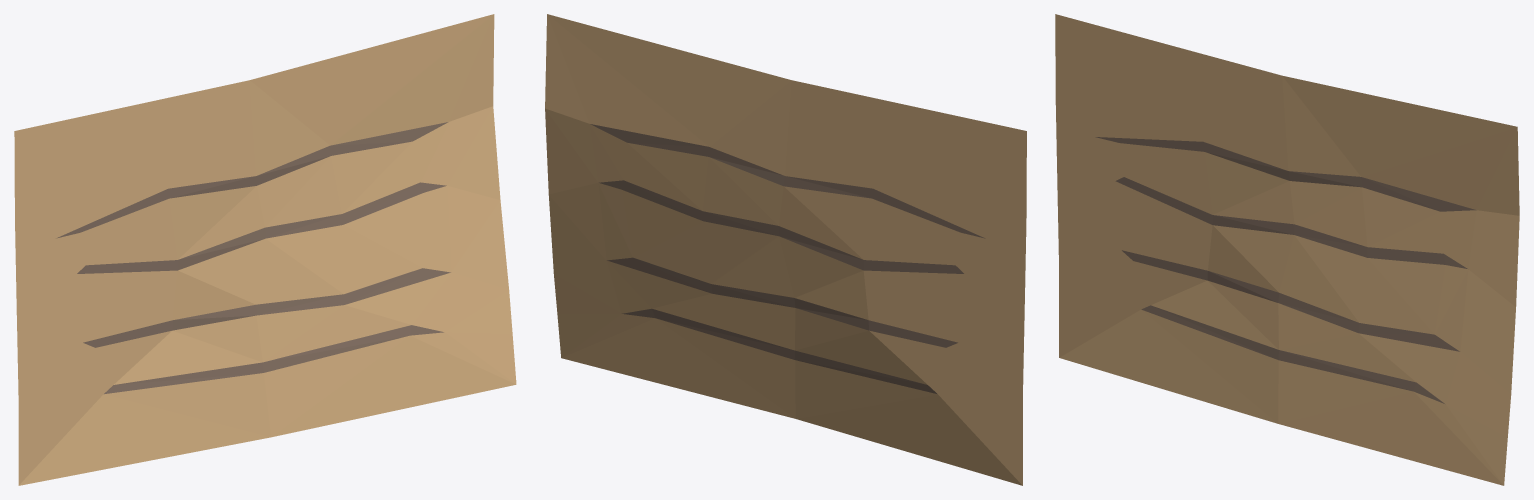
Rendered from SFHW_Paper_023.fbx.
3 renders of one model, left to right at view 1: azimuth 30°, elevation 25°; view 2: azimuth 150°, elevation 25°; view 3: azimuth 330°, elevation 25°, orthographic. The views are drawn at different scales.
Parts seen in each view (by area): view 1: SFHW_Paper_023; view 2: SFHW_Paper_023; view 3: SFHW_Paper_023.
Boxes of the visible parts, x1,y1,x2,y2 form: SFHW_Paper_023: (14, 14, 516, 485); SFHW_Paper_023: (545, 14, 1026, 485); SFHW_Paper_023: (1055, 14, 1519, 485).
Size of the model in its own units: 19.42 by 13.74 by 1.37.
